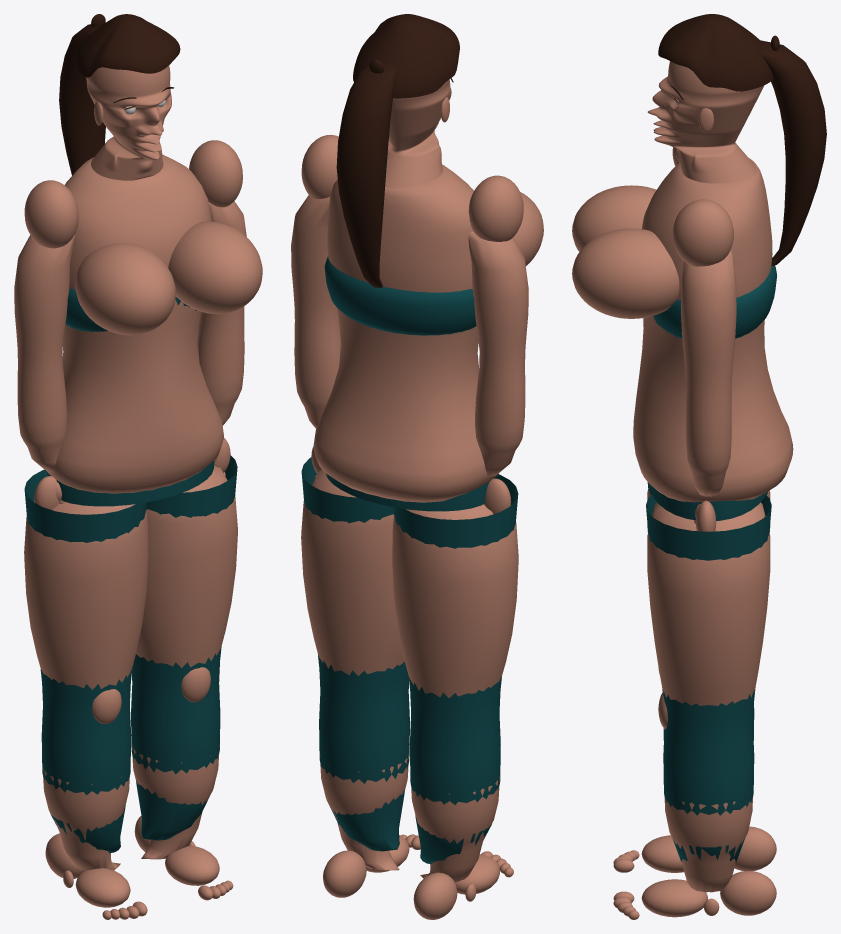
The model's file is female_natural.obj.
3 views of the same model, side by side, from view 1: azimuth 30°, elevation 25°; view 2: azimuth 150°, elevation 25°; view 3: azimuth 270°, elevation 25° (orthographic).
Parts seen in each view (by area): view 1: Body_female_natural, Garment_Leggings, Hair_ponytail, Garment_Top; view 2: Body_female_natural, Garment_Leggings, Hair_ponytail, Garment_Top; view 3: Body_female_natural, Garment_Leggings, Hair_ponytail, Garment_Top.
Boxes of the visible parts, x1,y1,x2,y2 form: Body_female_natural: (14, 65, 262, 919); Garment_Leggings: (24, 455, 237, 853); Hair_ponytail: (59, 14, 180, 175); Garment_Top: (65, 288, 196, 331); Body_female_natural: (291, 79, 543, 919); Garment_Leggings: (301, 457, 518, 864); Hair_ponytail: (336, 14, 459, 287); Garment_Top: (324, 256, 476, 335); Body_female_natural: (572, 61, 793, 919); Garment_Leggings: (646, 482, 771, 861); Hair_ponytail: (658, 14, 826, 265); Garment_Top: (653, 257, 776, 338).
Bounding box in the file's own units: 0.4824 × 1.75 × 0.4624.
